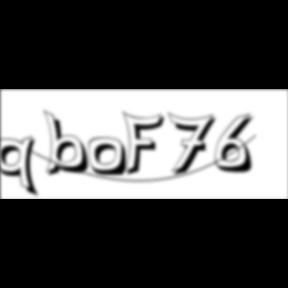6: (216, 112, 260, 176)
7: (168, 111, 222, 179)
F: (123, 110, 171, 178)
b: (44, 109, 96, 179)
o: (88, 137, 130, 179)
q: (1, 135, 44, 200)
